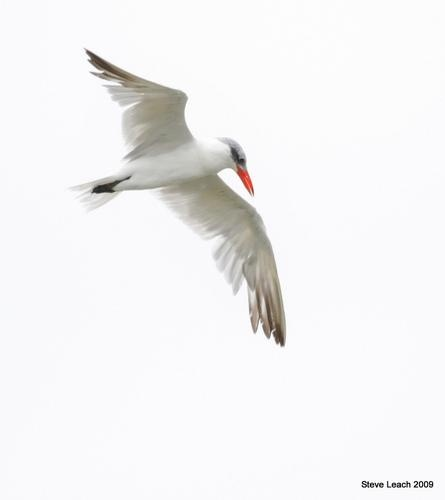bird: (57, 32, 295, 351)
